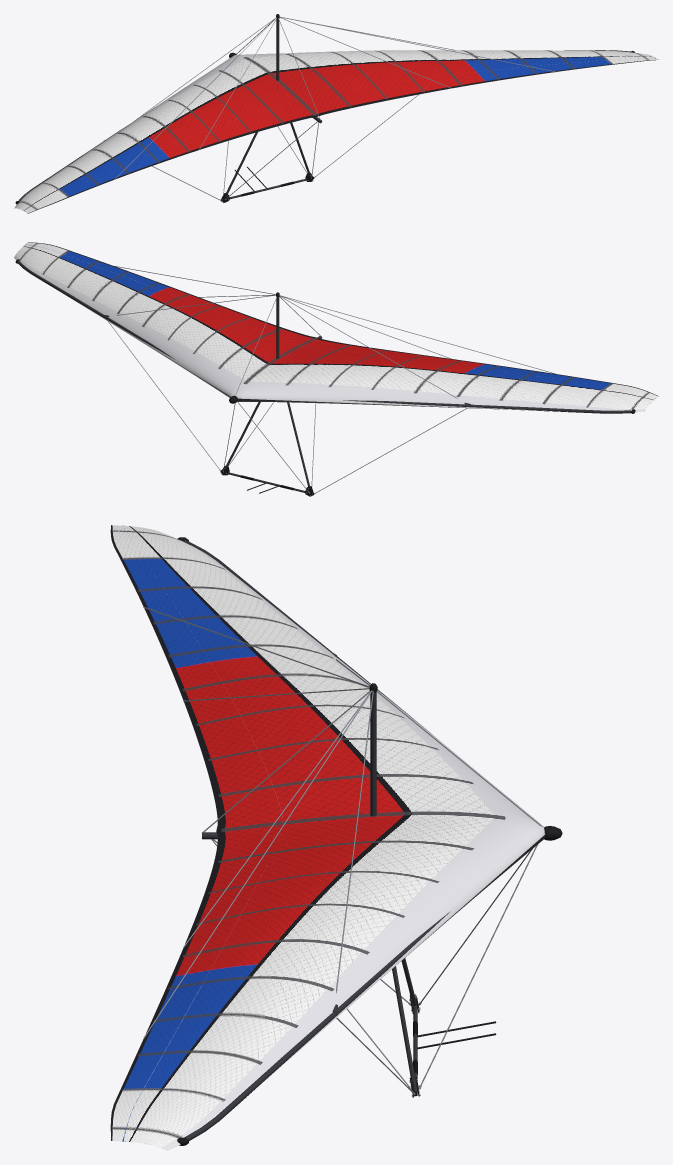
File: glider_laminar.glb
The picture shows the model from 3 angles, top to bottom: view 1: azimuth 30°, elevation 25°; view 2: azimuth 150°, elevation 25°; view 3: azimuth 270°, elevation 25°; orthographic projection. The views are drawn at different scales.
Parts seen in each view (by area): view 1: Sail, Frame, ControlFrame; view 2: Sail, Frame, ControlFrame; view 3: Sail, Frame, ControlFrame.
Boxes of the visible parts, left/top/right/bottom form: Sail: left=14, top=50, right=658, bottom=213; Frame: left=15, top=14, right=635, bottom=204; ControlFrame: left=152, top=94, right=418, bottom=202; Sail: left=14, top=242, right=658, bottom=412; Frame: left=15, top=259, right=635, bottom=413; ControlFrame: left=108, top=321, right=466, bottom=496; Sail: left=110, top=525, right=545, bottom=1150; Frame: left=143, top=537, right=562, bottom=1145; ControlFrame: left=211, top=839, right=537, bottom=1097.
Size of the model in its own units: 10.3 by 2.9 by 3.19.
8 materials, 1 textured.
